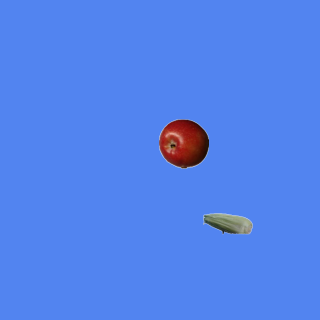Apple Braeburn: (158, 118, 208, 168)
Corn Husk: (202, 198, 252, 248)
